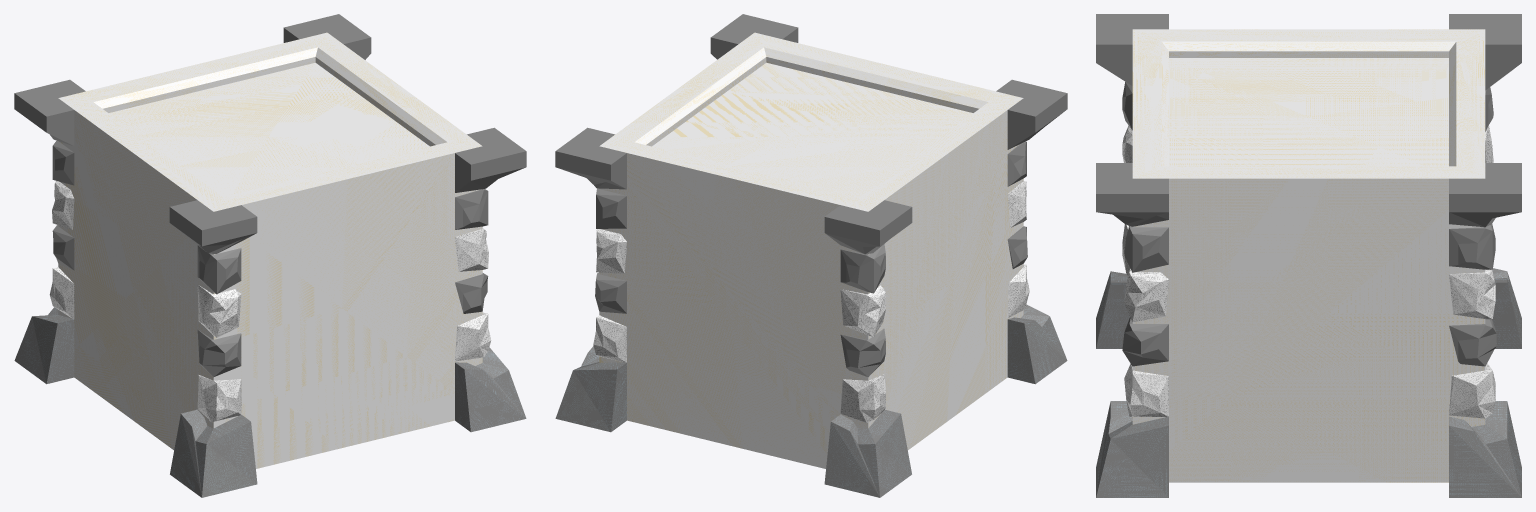
Rendered from Fund6.fbx.
3 renders of one model, left to right at view 1: azimuth 30°, elevation 25°; view 2: azimuth 150°, elevation 25°; view 3: azimuth 270°, elevation 25°, orthographic. The views are drawn at different scales.
Visible parts, largest first — view 1: Group1, G_19_1, G_19_2, G_19_3, A4, A1, A2, A3, C4, Component_1_4, B4, D4 (+8 smaller); view 2: Group1, G_19_3, G_19_4, G_19_1, A2, A3, A4, A1, Component_1_2, C2, B2, D2 (+8 smaller); view 3: Group1, G_19_2, G_19_4, A3, A1, A2, A4, Component_1_3, C3, G_19_1, Component_1_1, C1 (+5 smaller).
Boxes of the visible parts, <box> form: Group1: <box>58,32,482,468</box>; G_19_1: <box>170,409,257,497</box>; G_19_2: <box>455,347,526,432</box>; G_19_3: <box>14,307,74,384</box>; A4: <box>169,200,257,253</box>; A1: <box>455,127,526,192</box>; A2: <box>14,79,85,145</box>; A3: <box>283,14,371,59</box>; C4: <box>197,284,241,337</box>; Component_1_4: <box>197,375,241,422</box>; B4: <box>197,245,241,294</box>; D4: <box>197,330,241,377</box>; Group1: <box>599,32,1023,468</box>; G_19_3: <box>824,409,911,497</box>; G_19_4: <box>555,346,626,432</box>; G_19_1: <box>1007,305,1067,384</box>; A2: <box>824,200,912,254</box>; A3: <box>555,127,626,189</box>; A4: <box>996,79,1067,149</box>; A1: <box>710,14,798,59</box>; Component_1_2: <box>840,374,885,422</box>; C2: <box>840,285,885,336</box>; B2: <box>840,244,885,293</box>; D2: <box>840,328,885,377</box>; Group1: <box>1132,29,1485,482</box>; G_19_2: <box>1096,401,1168,497</box>; G_19_4: <box>1449,401,1521,497</box>; A3: <box>1449,163,1521,227</box>; A1: <box>1096,163,1168,226</box>; A2: <box>1449,14,1521,90</box>; A4: <box>1096,14,1168,85</box>; Component_1_3: <box>1449,363,1495,418</box>; C3: <box>1449,269,1495,319</box>; G_19_1: <box>1096,271,1129,348</box>; Component_1_1: <box>1124,364,1168,417</box>; C1: <box>1124,268,1168,322</box>.
Bounding box in the file's own units: 2920 × 2300 × 2920.
